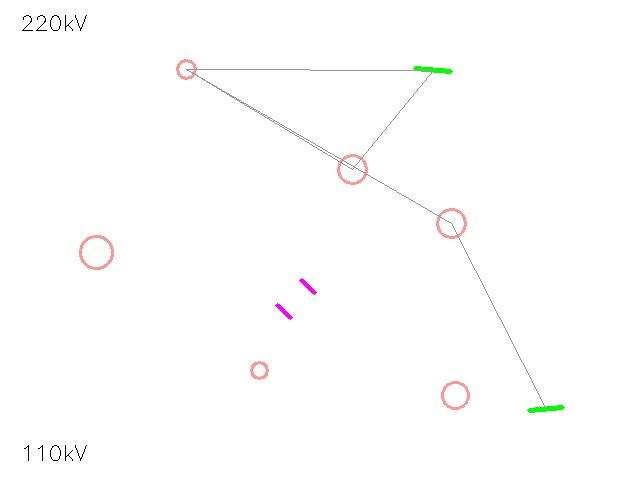busbar: (411, 48, 455, 92), (525, 388, 567, 430)
capacitor: (267, 270, 325, 328)
current_transformer: (167, 50, 205, 88)
disconnect_switch: (63, 219, 129, 285), (242, 353, 276, 387)
feeder_terminal: (423, 195, 479, 251), (324, 141, 380, 197), (429, 369, 481, 421)
